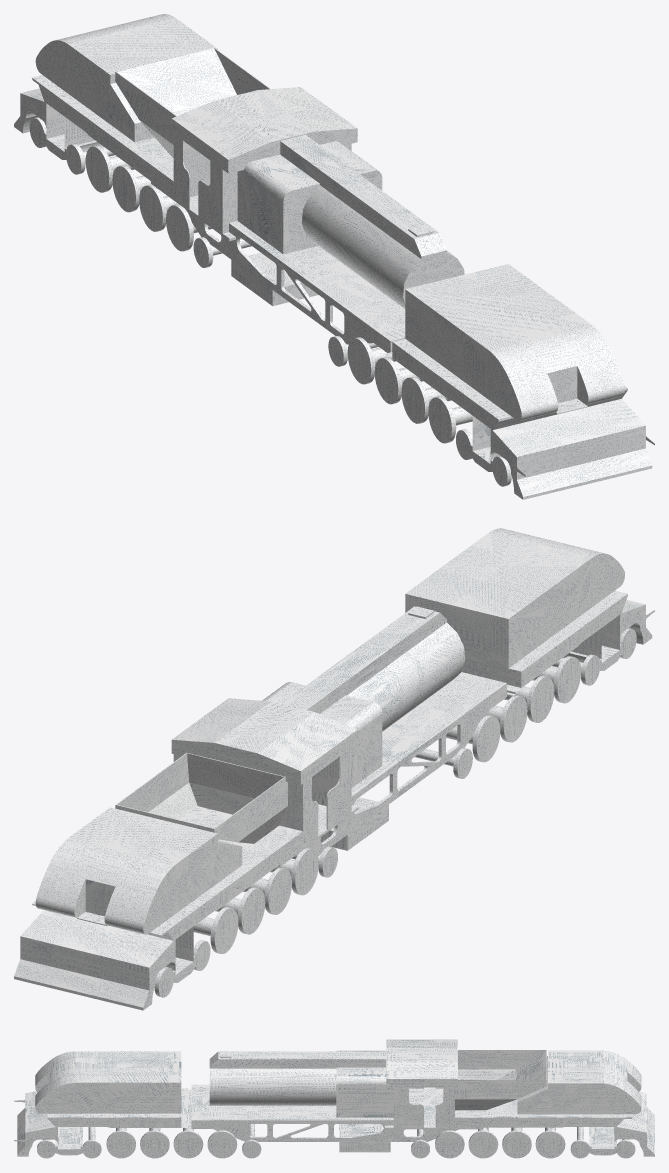
Rendered from ASG V2 3rd export centered.dae.
3 renders of one model, top to bottom at view 1: azimuth 30°, elevation 25°; view 2: azimuth 150°, elevation 25°; view 3: azimuth 270°, elevation 25°, orthographic. The views are drawn at different scales.
Visible parts, largest first — view 1: SketchUp (×10); view 2: SketchUp (×10); view 3: SketchUp (×12).
Part boxes in pixels (x1,y1,x2,y2): SketchUp (×10): (14, 14, 654, 499); SketchUp (×10): (14, 528, 654, 1010); SketchUp (×12): (14, 1039, 654, 1158).
Size of the model in its own units: 118 by 810 by 118.
